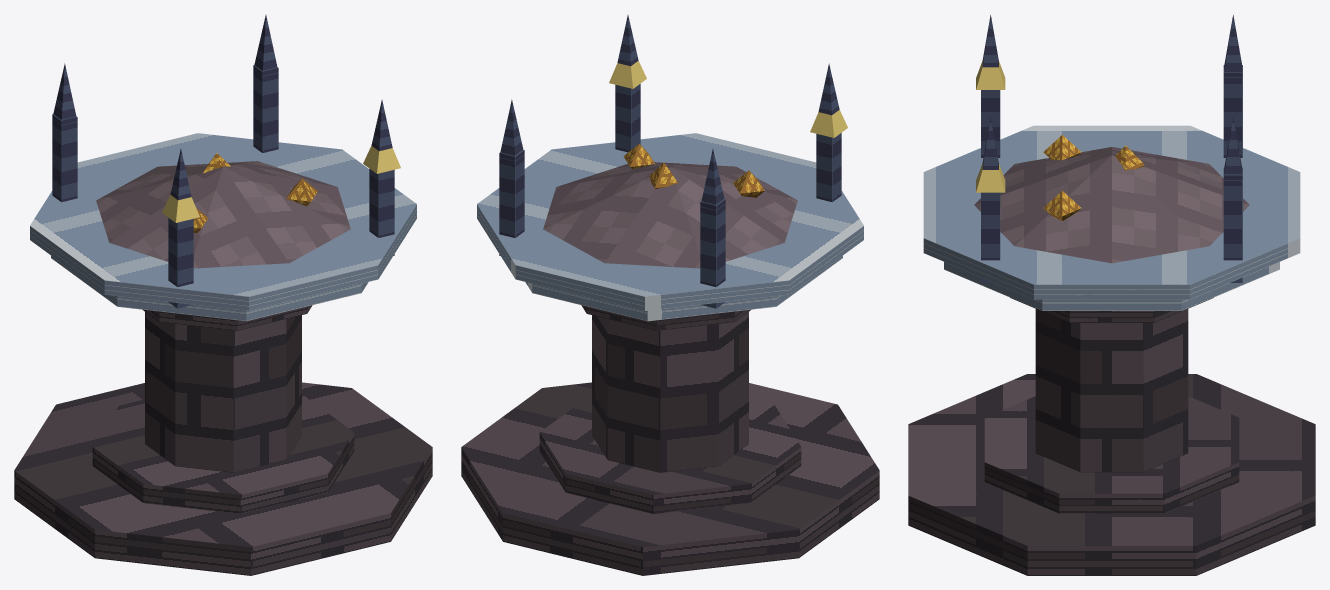
File: altar_b.glb
3 renders of one model, left to right at view 1: azimuth 30°, elevation 25°; view 2: azimuth 150°, elevation 25°; view 3: azimuth 270°, elevation 25°, orthographic. The views are drawn at different scales.
Visible parts, largest first — view 1: body, glut; view 2: body, glut; view 3: body, glut.
Boxes of the visible parts, x1,y1,x2,y2 form: body: [14, 15, 432, 575]; glut: [162, 146, 400, 232]; body: [461, 15, 879, 575]; glut: [609, 61, 847, 197]; body: [908, 15, 1315, 575]; glut: [976, 61, 1144, 221].
Size of the model in its own units: 1.48 by 1.7 by 1.48.
Materials: 1 (1 with a texture image).
